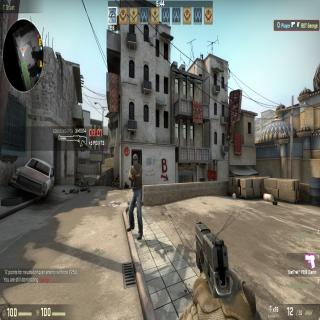T-Body: (128, 154, 142, 239)
T-Head: (132, 154, 138, 166)
